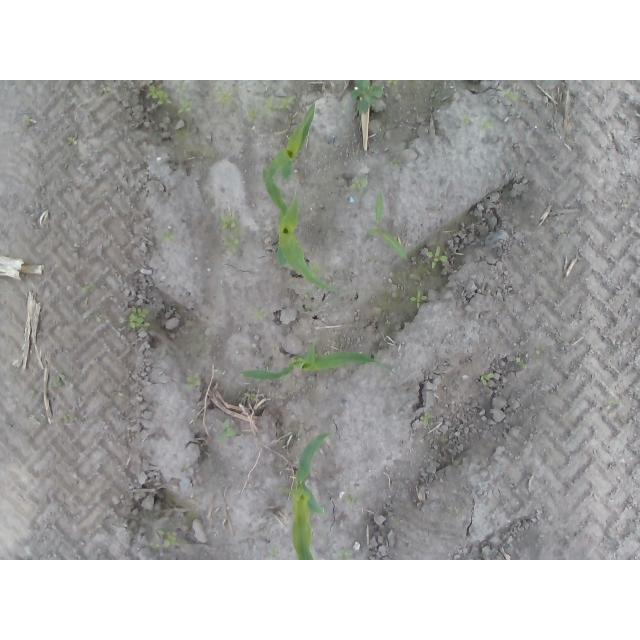Maize: (264, 164, 336, 296), (240, 346, 385, 383), (288, 430, 329, 560), (267, 101, 317, 183)
Weeds: (364, 190, 408, 259), (350, 81, 386, 116), (220, 214, 240, 251), (146, 82, 172, 107), (126, 305, 151, 331), (150, 528, 178, 548), (265, 95, 296, 112), (426, 245, 448, 268), (219, 417, 238, 442), (408, 288, 429, 309), (498, 87, 522, 104), (215, 86, 234, 106), (351, 175, 370, 194), (176, 100, 196, 114), (244, 106, 261, 122), (184, 374, 201, 390), (421, 412, 436, 426), (81, 280, 96, 294), (175, 81, 190, 94), (480, 372, 494, 385), (161, 231, 176, 242), (482, 116, 494, 129), (53, 373, 65, 386), (255, 309, 266, 322), (517, 356, 528, 368), (337, 552, 351, 561), (461, 115, 472, 126), (67, 135, 78, 145), (21, 113, 32, 123), (388, 158, 400, 166), (386, 81, 399, 88)
